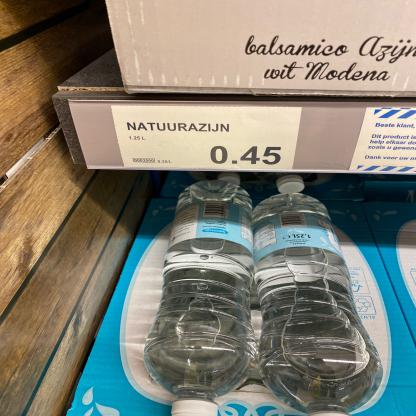prtg: (111, 107, 303, 171)
